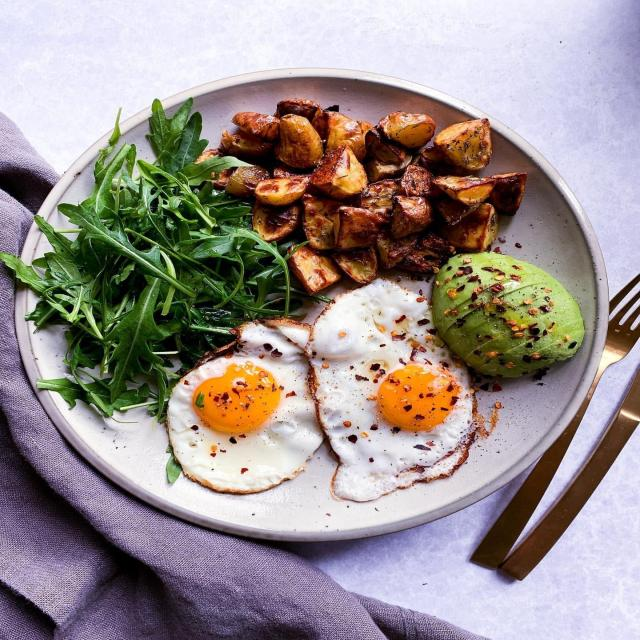Egg: (306, 279, 477, 501), (167, 319, 323, 494)
